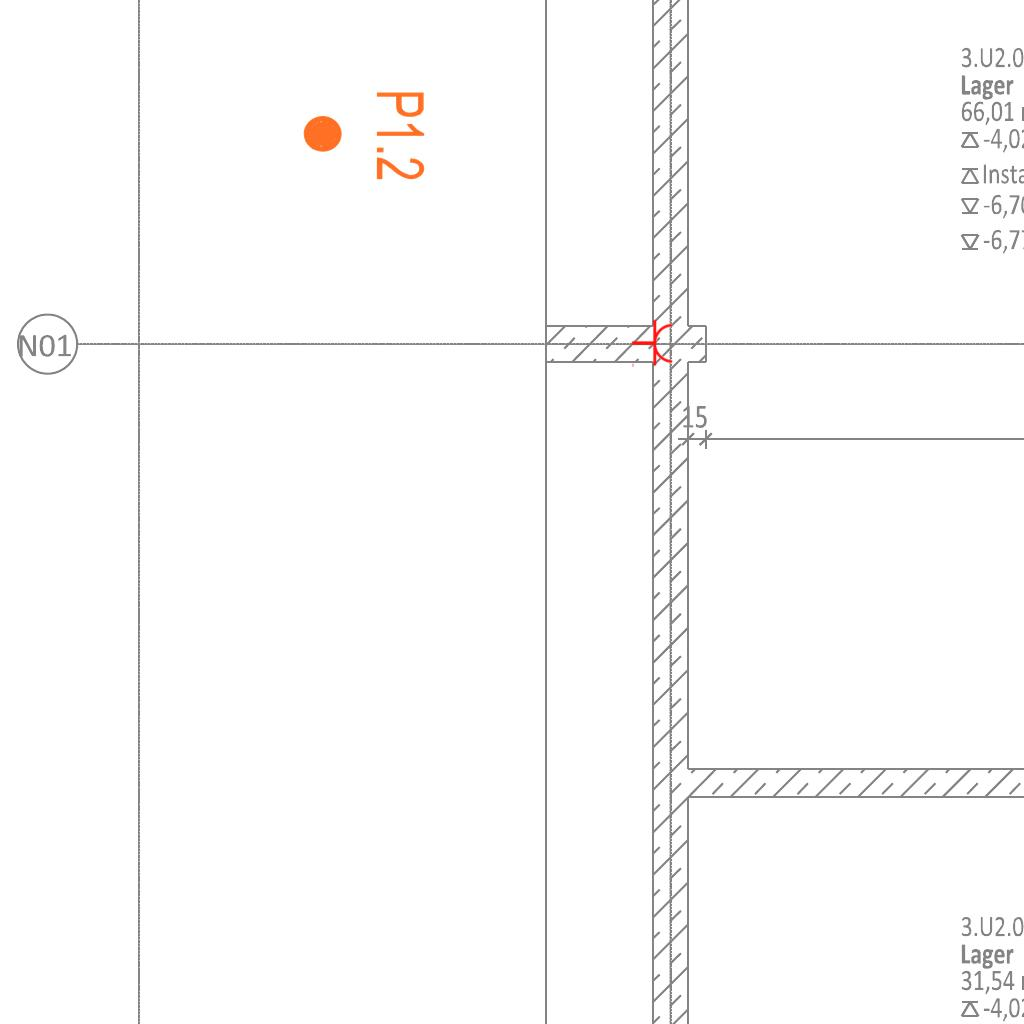Downlight_LED_Einbauleuchten_Flur: (300, 89, 428, 182)
Schukosteckdose_einfach: (631, 319, 674, 369)
